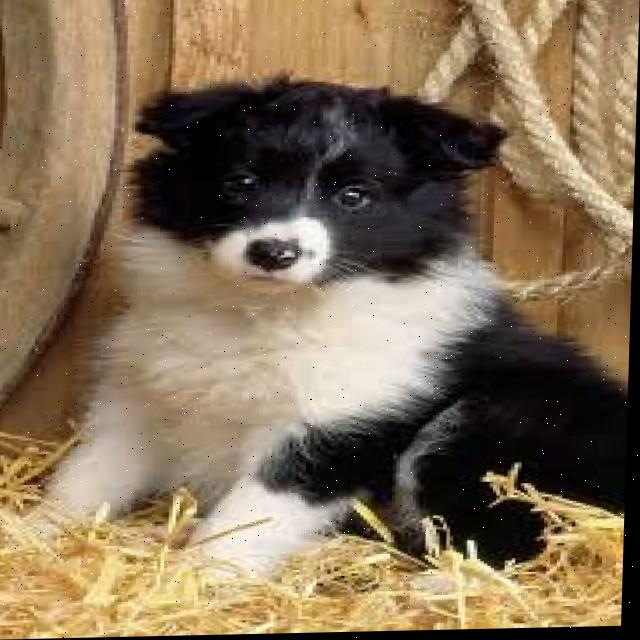ALASKAN_MALAMUTE: (0, 56, 638, 603)
